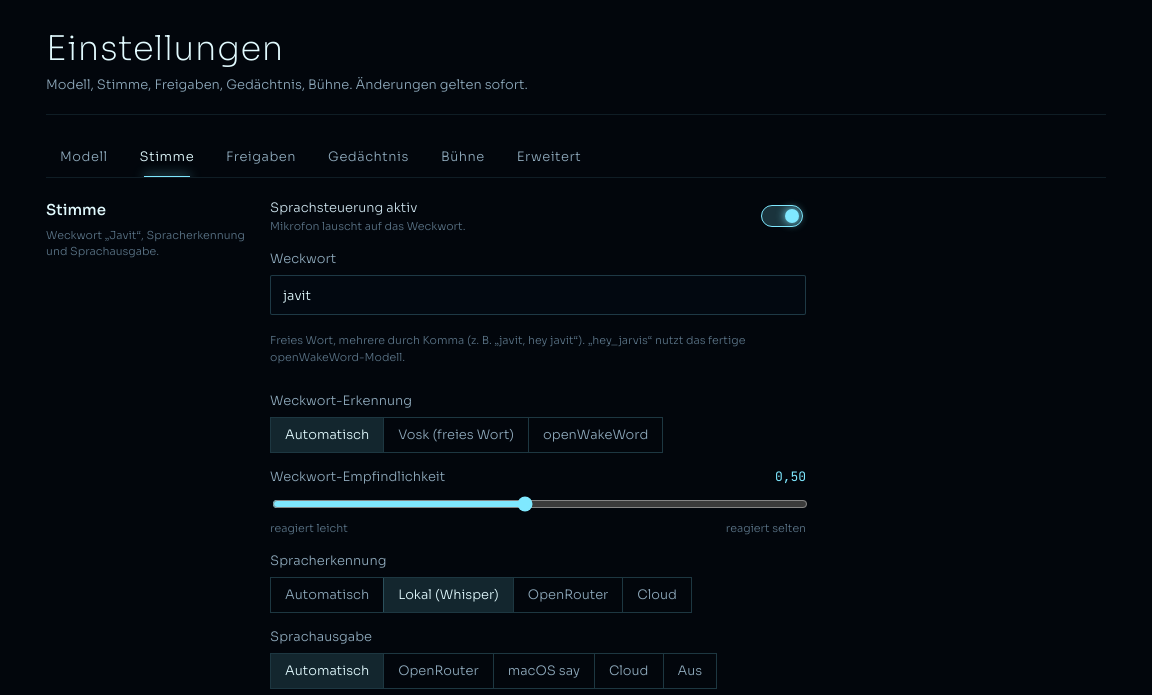
Test: Einstellungen: Name und Weckwort › leerer Name wird als Standard „Javit“ gespeichert
This screenshot has width=1152, height=695.
Click the tab "Stimme" at (167, 157), box [126,136,208,177]
(page scrolled)
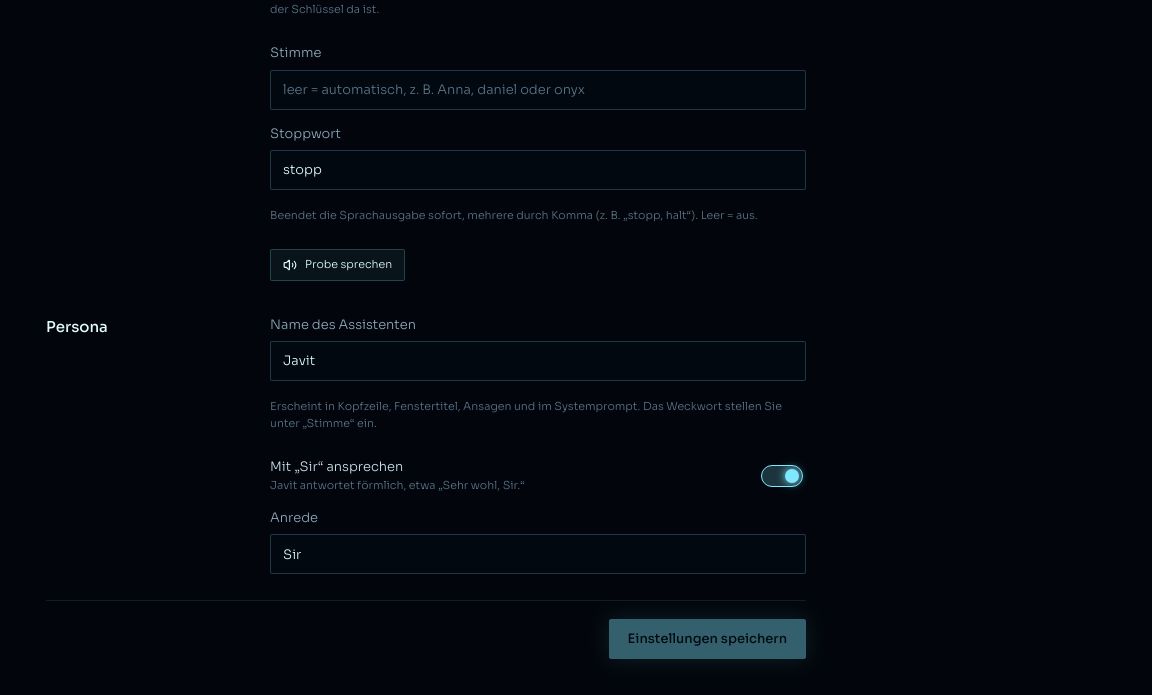
Clear the field labelled "Name des Assistenten" at (538, 361), box [270,341,806,381]
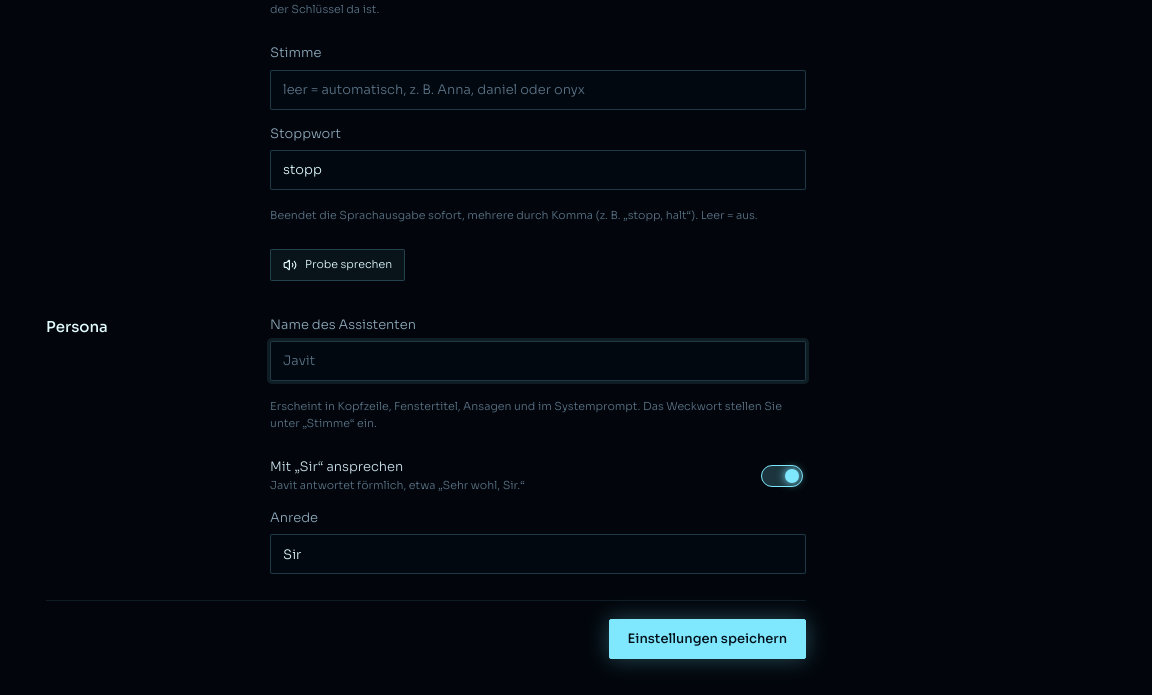
Click the button "Einstellungen speichern" at (707, 639), box [608,619,806,659]
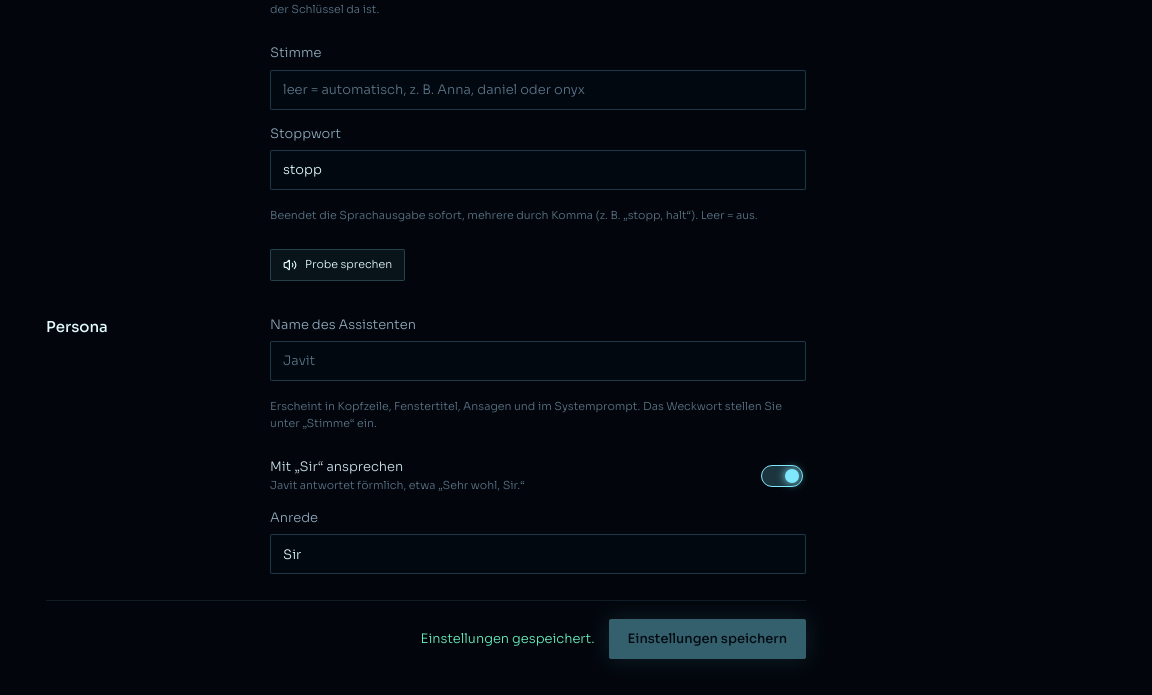
Expected: the text "Einstellungen gespeichert." is shown, [421,629,595,649]
